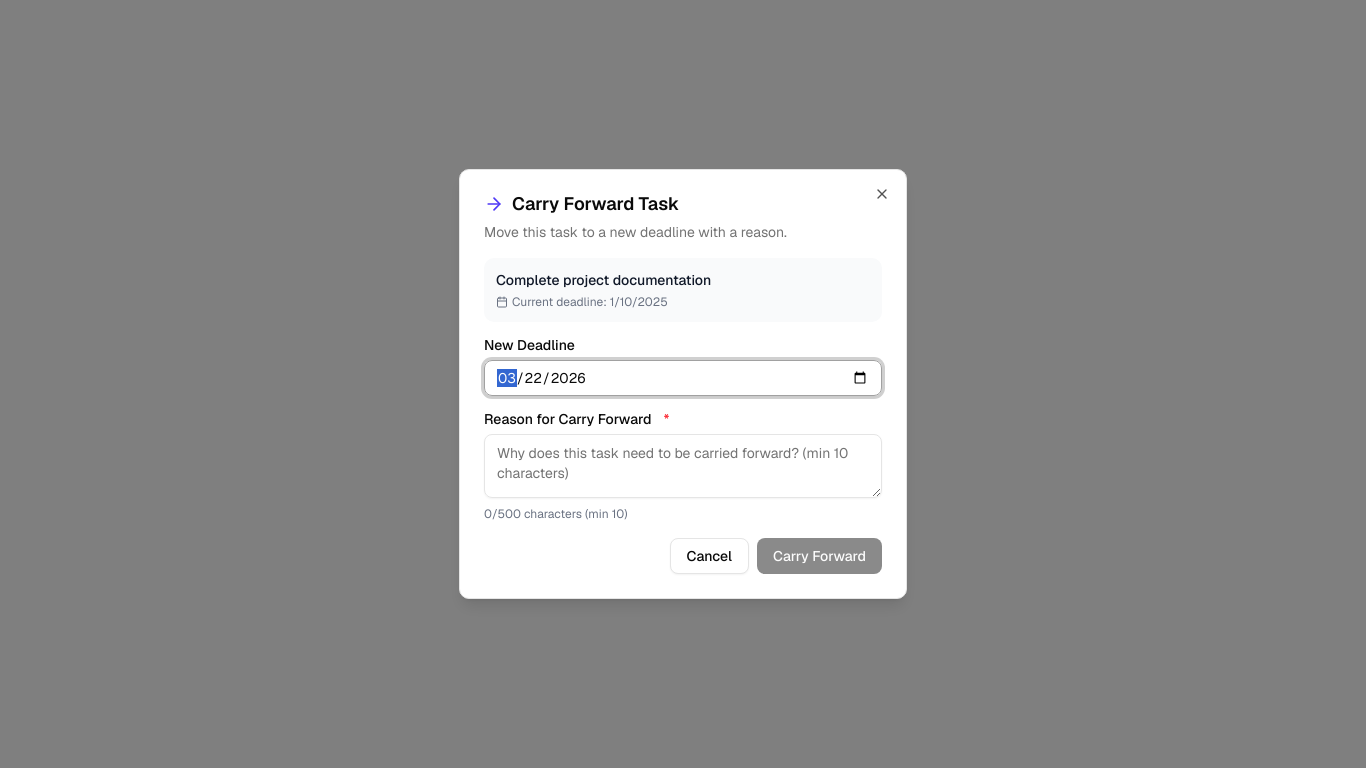
CarryForwardModal › shows loading state during submission
The image size is (1366, 768).
In the text box with placeholder "Why does this task": (683, 466) [484,434,882,498], type "Waiting for client feedback on requirements"
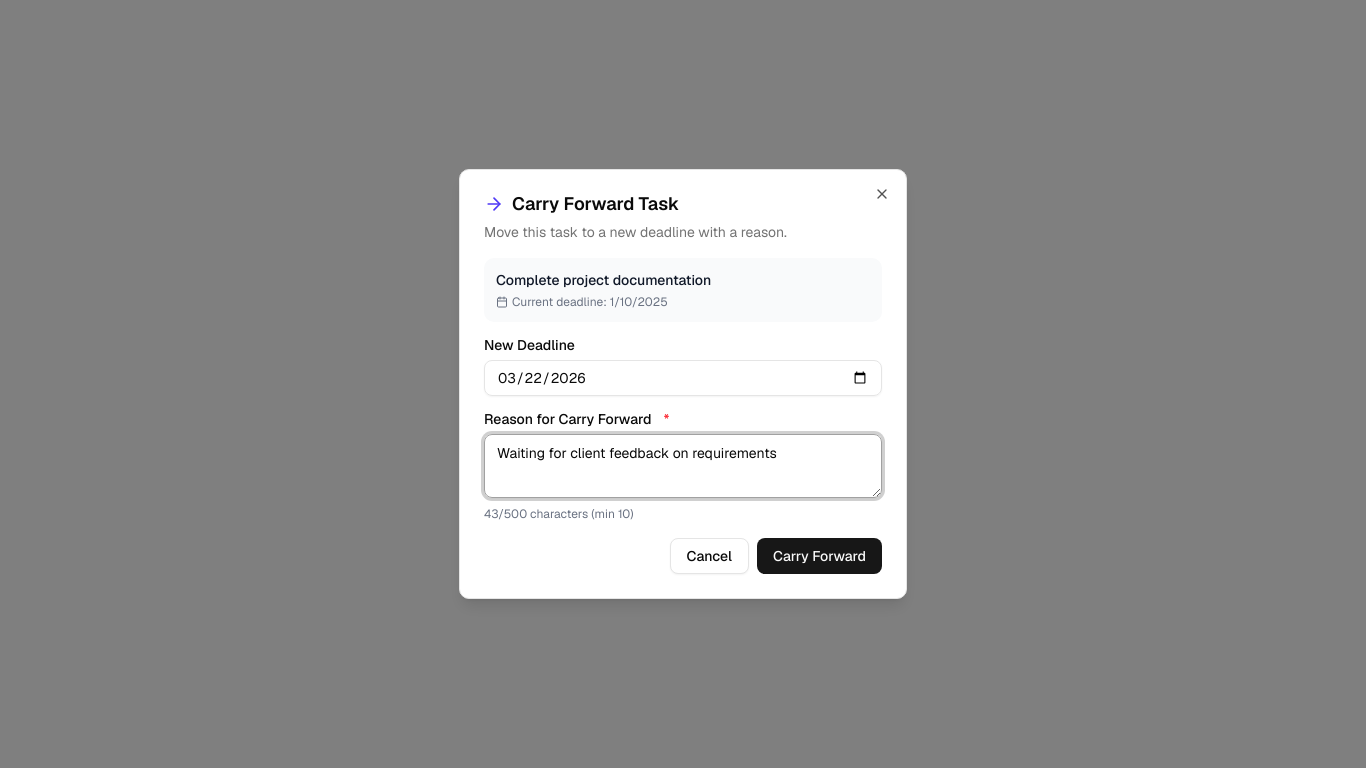
Click the button "Carry Forward": (820, 556) [757,538,882,574]
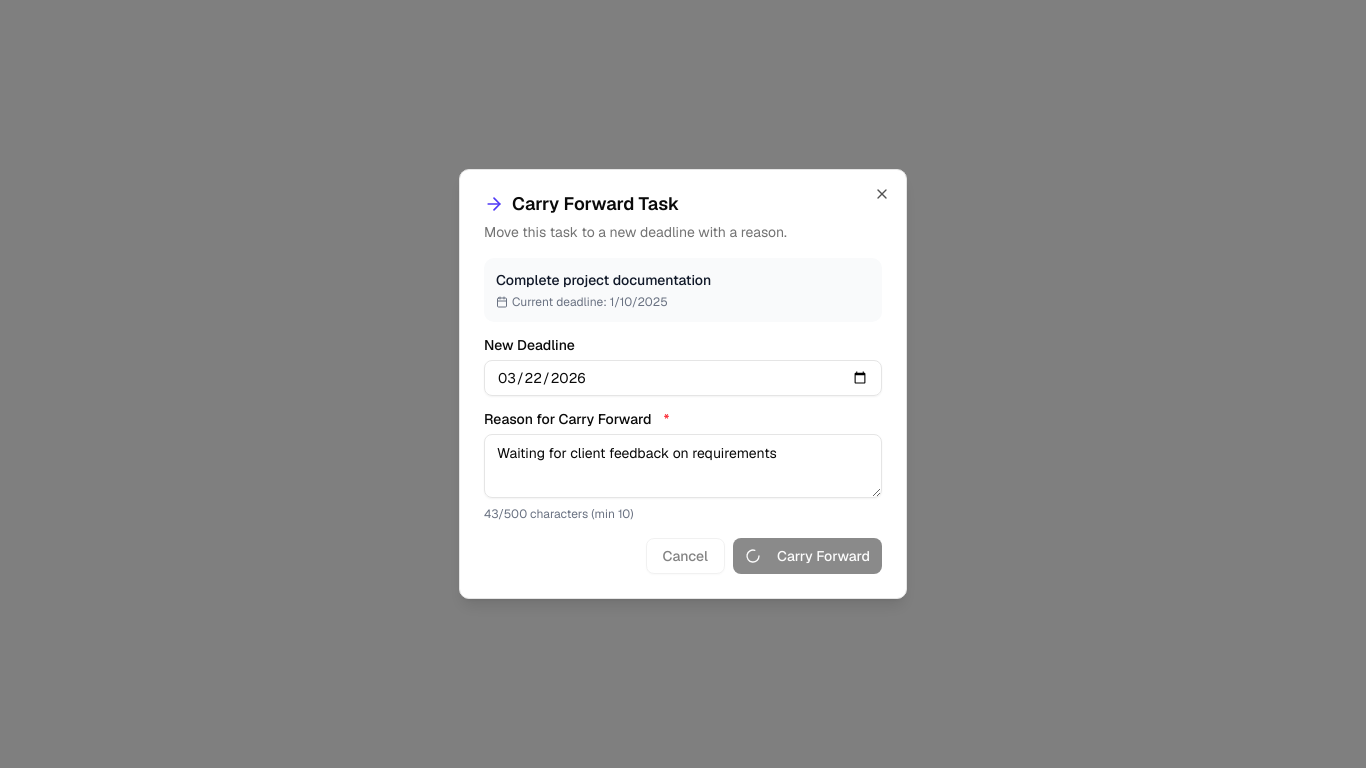
Now the button "Carry Forward" is disabled, box [733,538,882,574]
